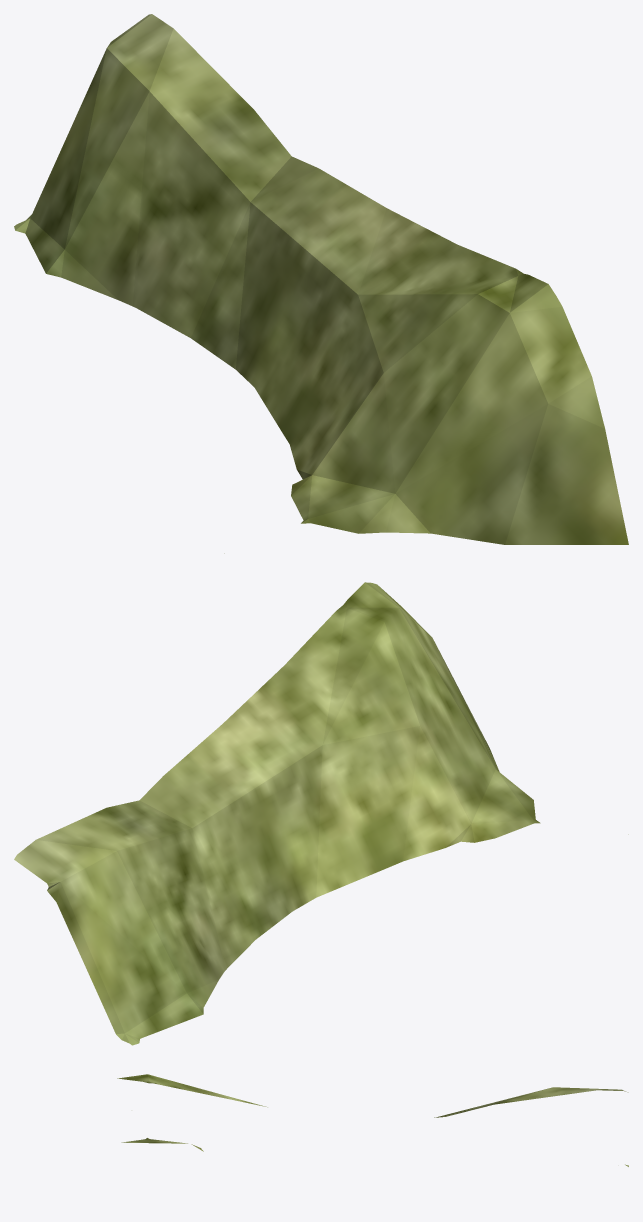
3 views of the same model, one above another, from view 1: azimuth 30°, elevation 25°; view 2: azimuth 150°, elevation 25°; view 3: azimuth 270°, elevation 25° (orthographic). The views are drawn at different scales.
Size of the model in its own units: 0.5694 by 0.352 by 1.52.
1 material, 1 textured.
